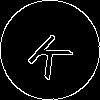K: (25, 25, 81, 82)
